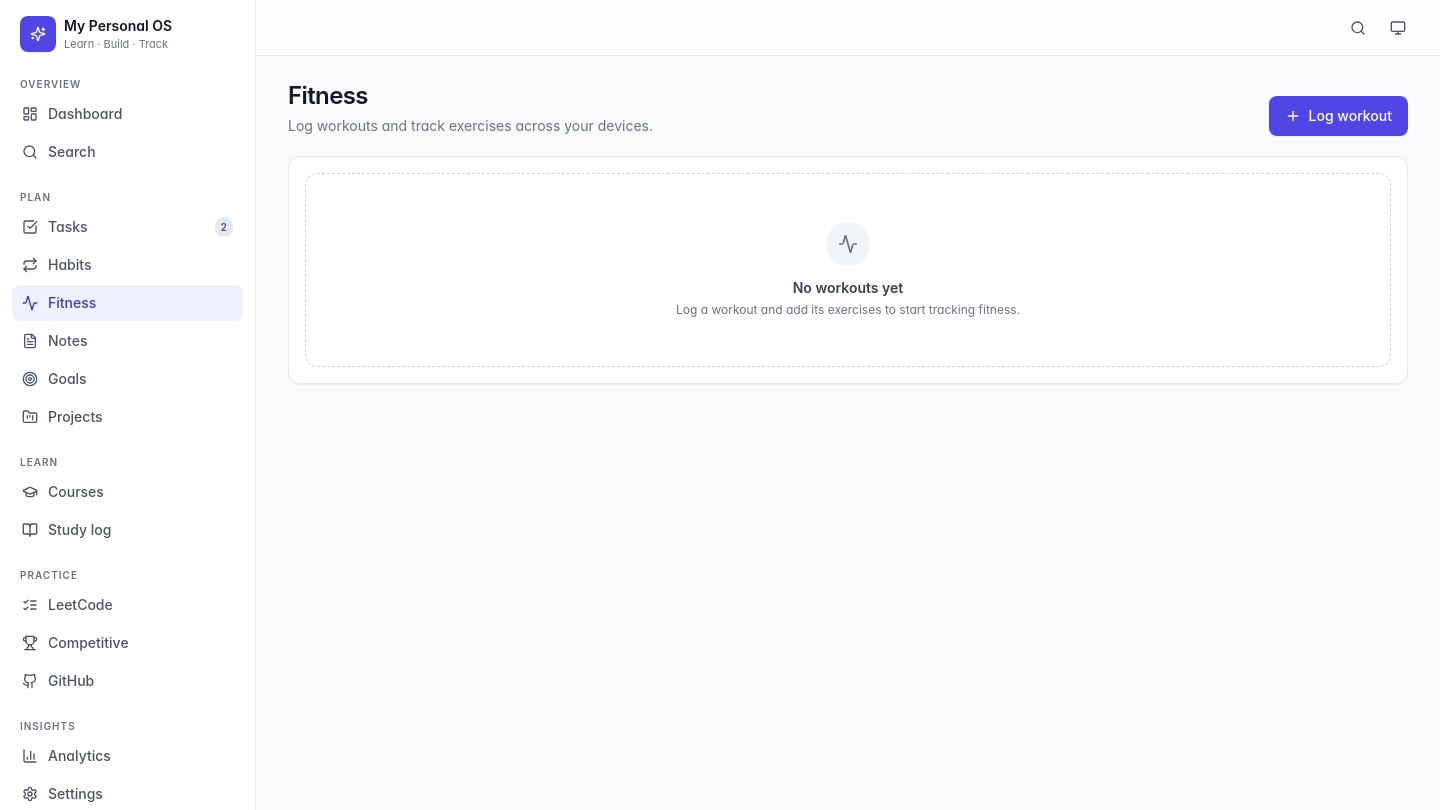
Test case: fitness and notes › logs a workout with an exercise
The width and height of the screenshot is (1440, 810).
Expected: the heading "Fitness" is shown, [288,81,368,110]
Click the button "Log workout".
click(1338, 116)  # box [1269,96,1408,136]
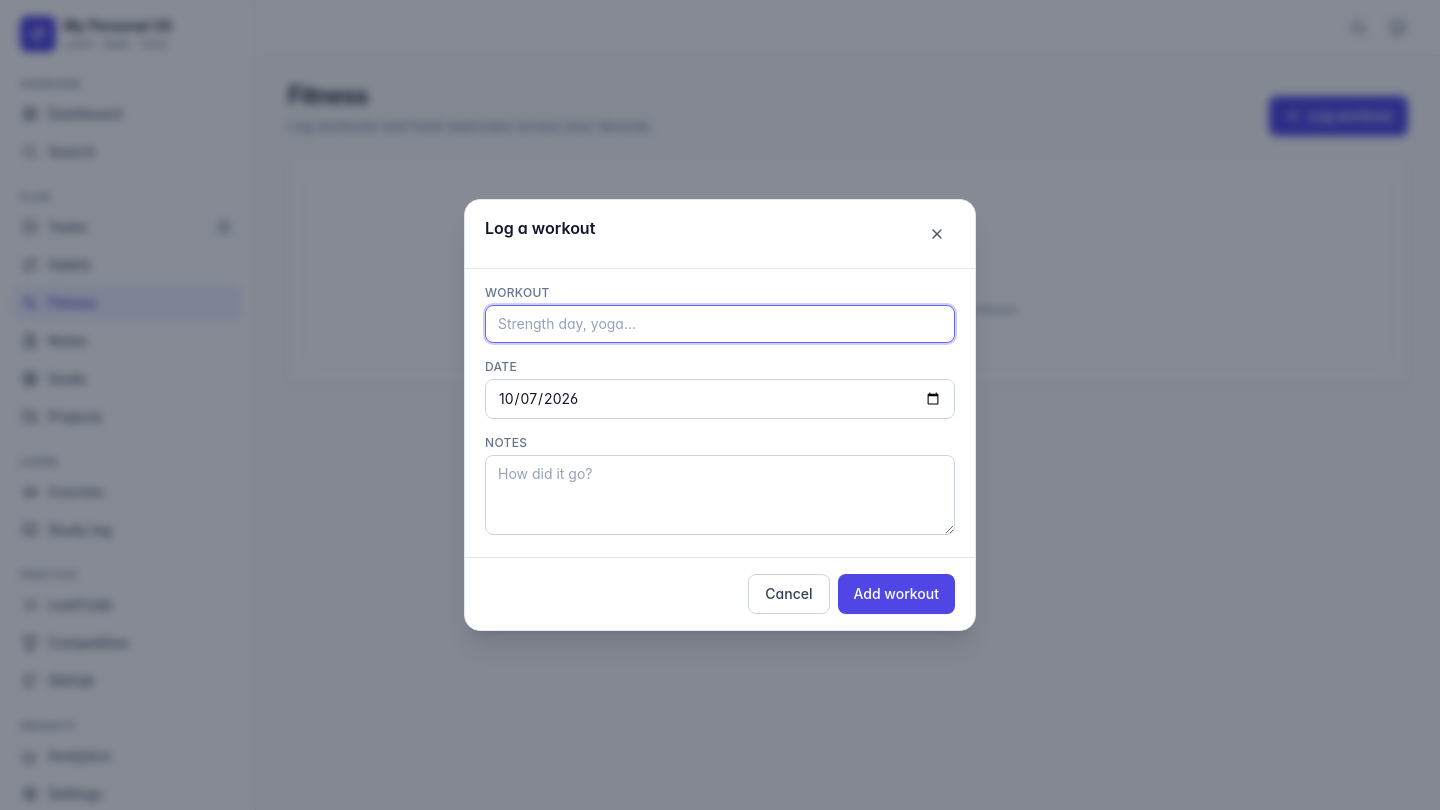
Type "Strength day" into the field labelled "Workout".
click(720, 324); type("Strength day")  # box [485,305,955,343]
Click the button "Add workout".
click(896, 594)  # box [838,574,955,614]
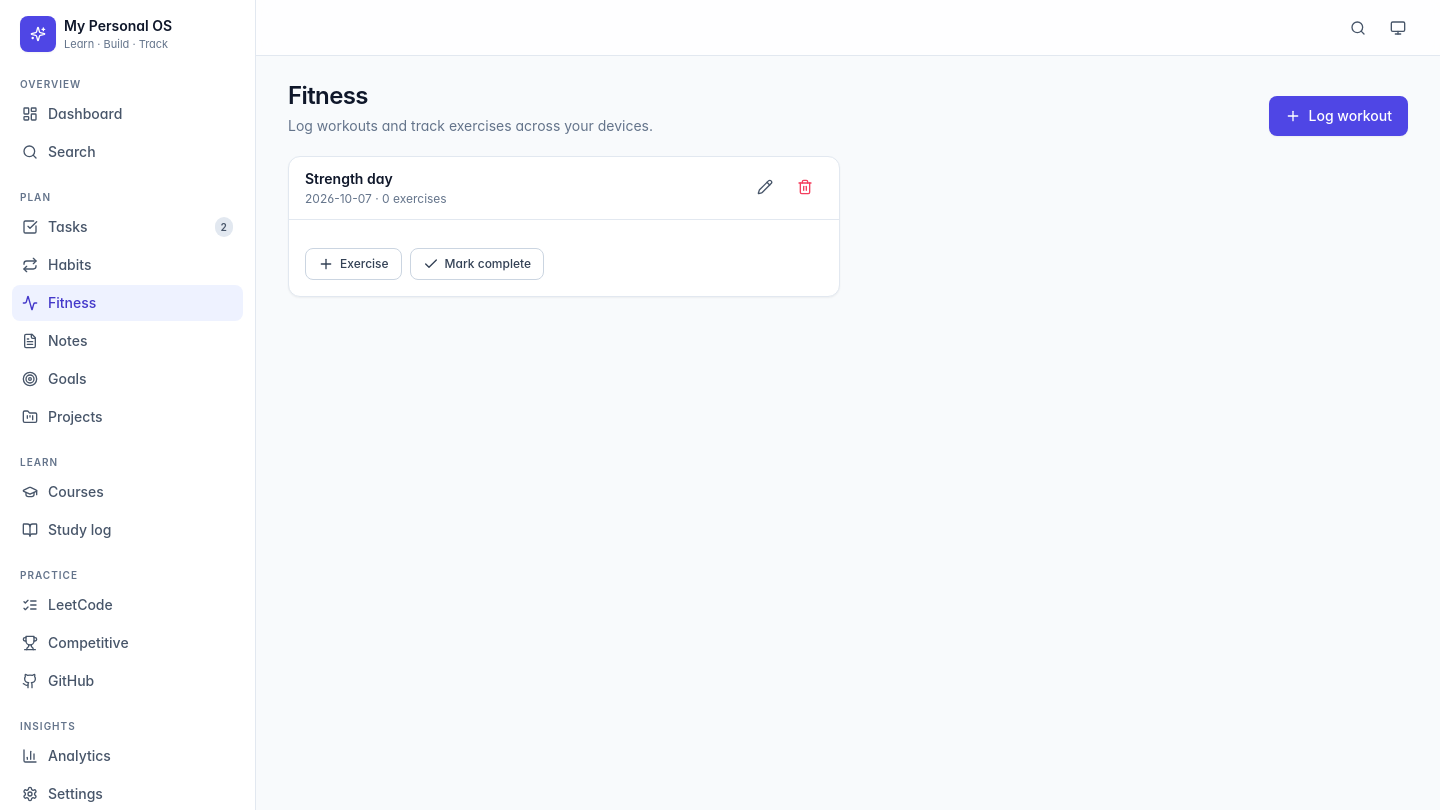
Expected: the heading "Strength day" is shown, [305,170,393,187]
Click the button "Exercise".
click(353, 264)  # box [305,248,402,280]
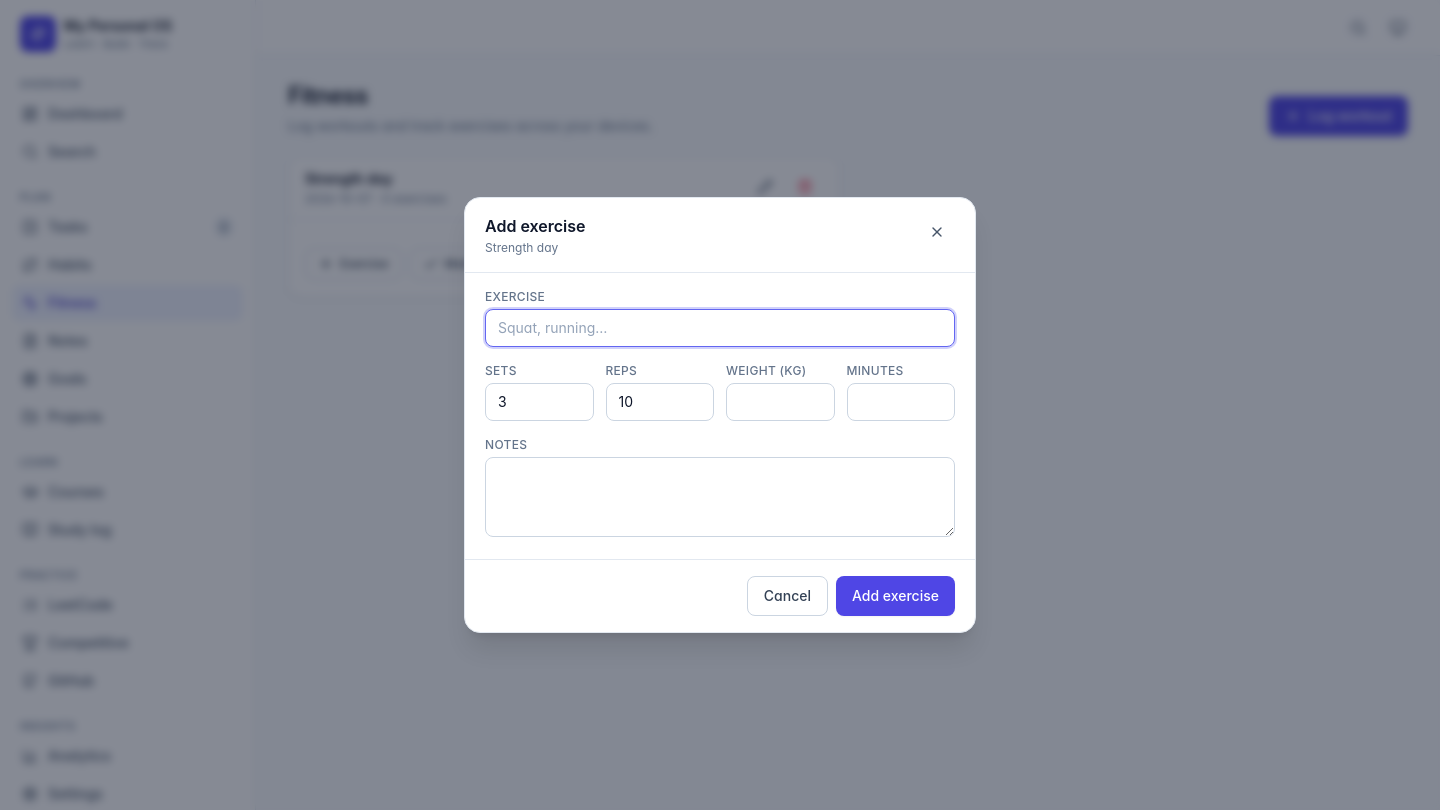
Type "Squat" into the field labelled "Exercise".
click(720, 328); type("Squat")  # box [485,309,955,347]
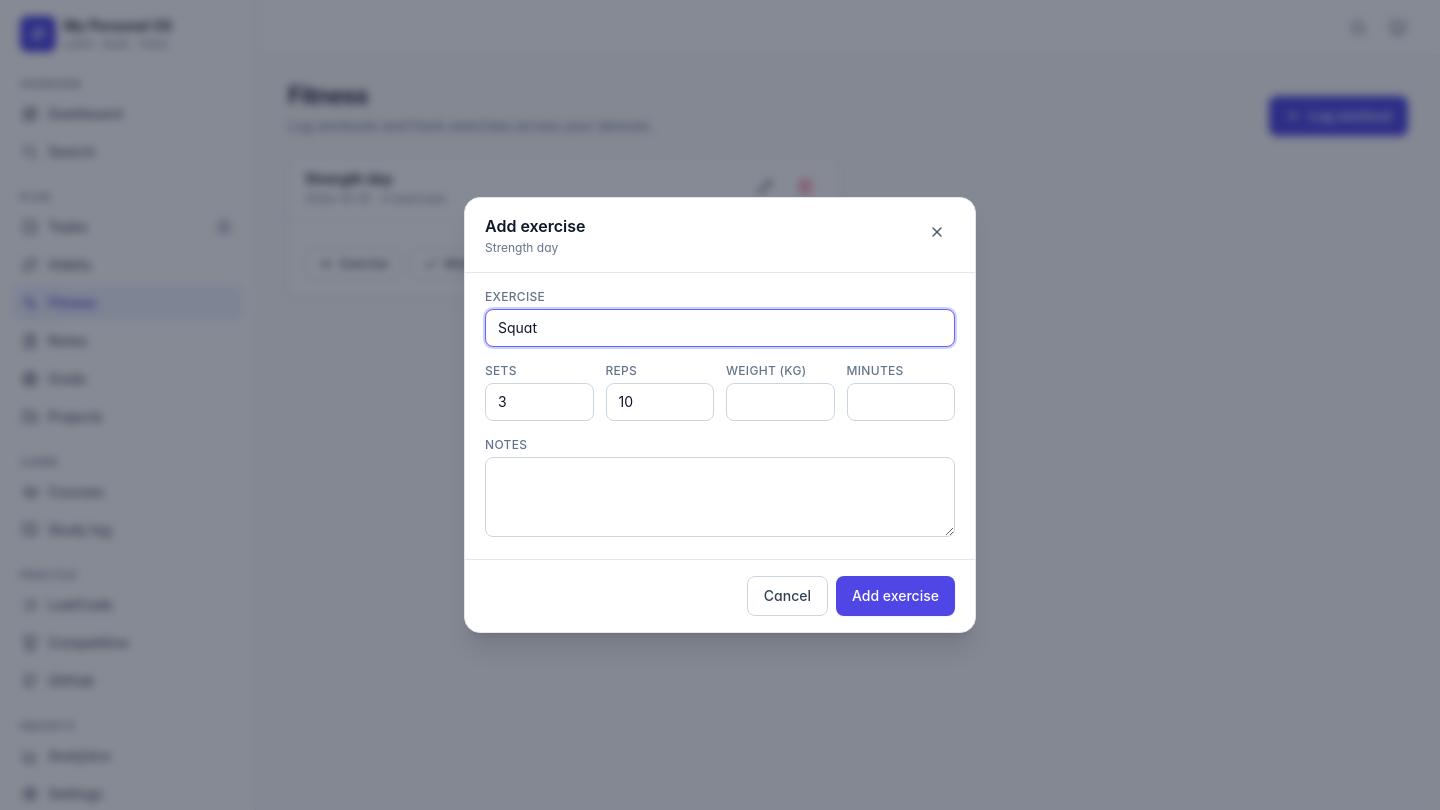
Replace the text in the number field labelled "Sets" with "4" at (539, 402), box [485,383,594,421]
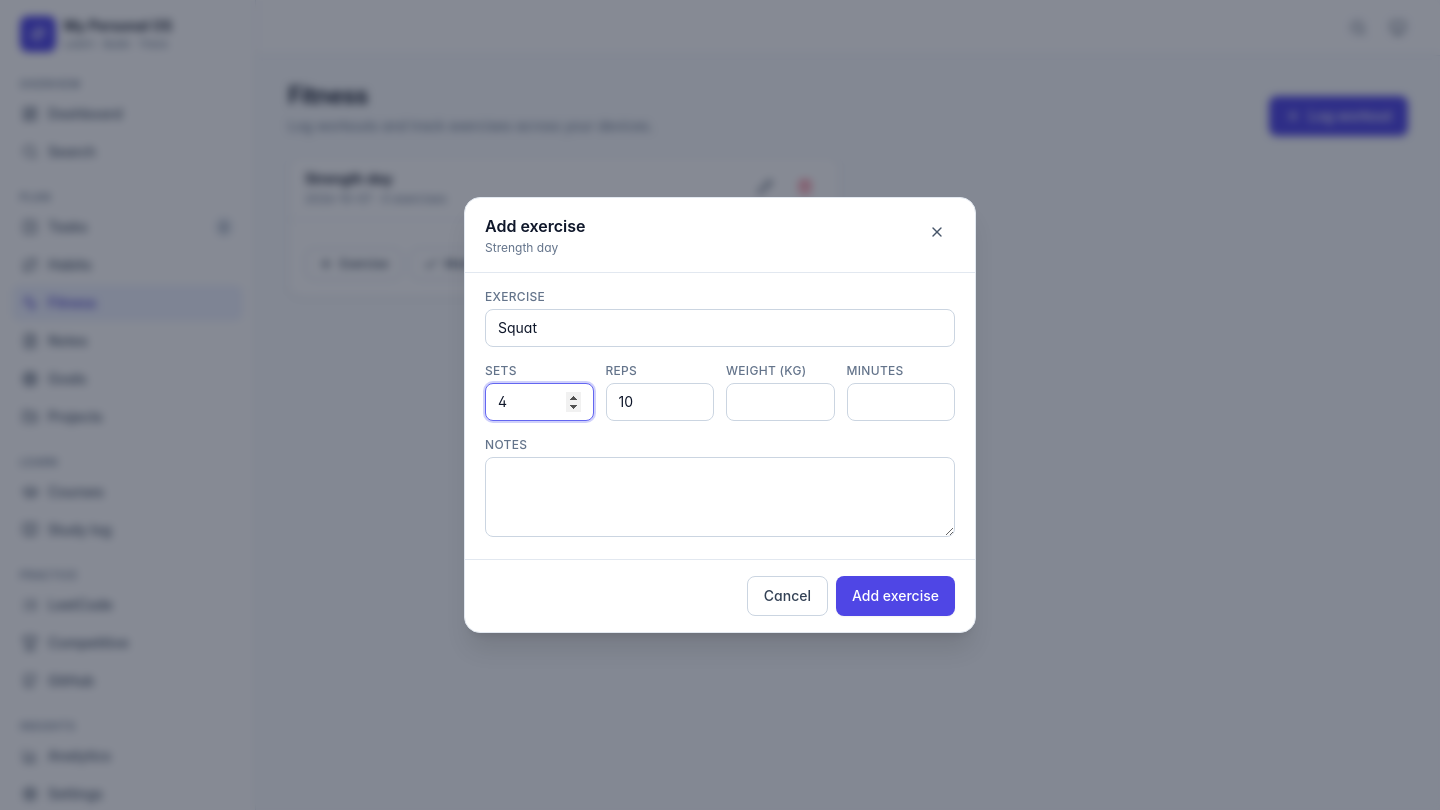
Click the button "Add exercise".
click(896, 596)  # box [836,576,955,616]
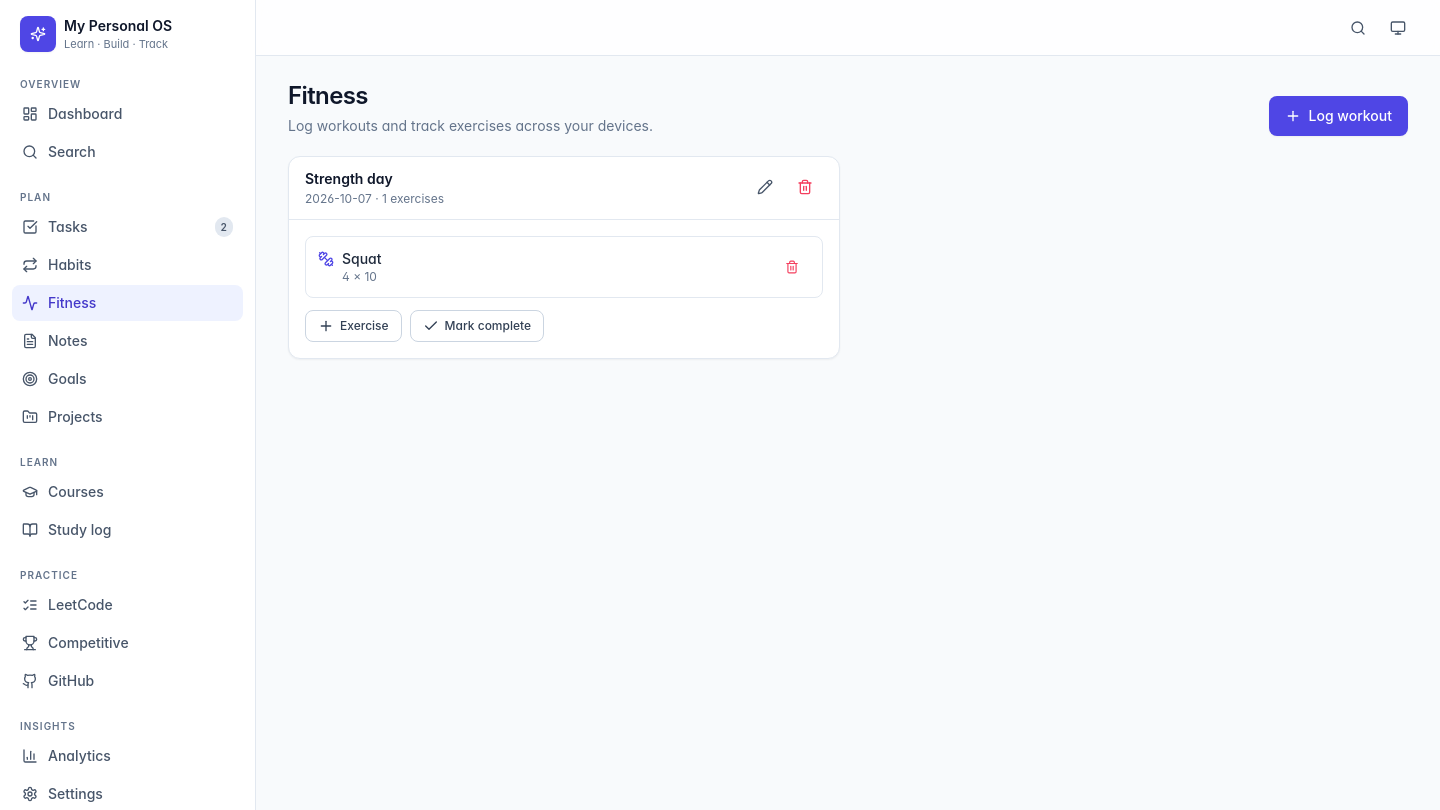
Expected: the text "Squat" is shown, [342,250,382,267]
